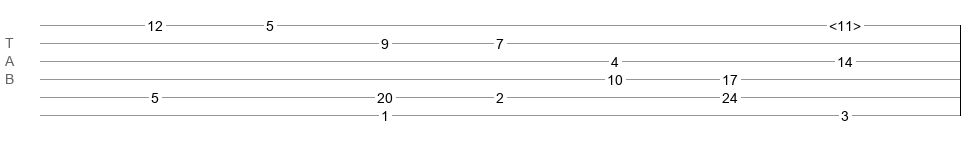1: (381, 108, 389, 118)
10: (607, 72, 623, 82)
12: (147, 18, 163, 28)
14: (837, 54, 853, 64)
17: (722, 72, 738, 82)
2: (496, 90, 504, 100)
20: (377, 90, 393, 100)
24: (722, 90, 738, 100)
3: (841, 108, 849, 118)
4: (611, 54, 619, 64)
5: (151, 90, 159, 100), (266, 18, 274, 28)
7: (496, 36, 504, 46)
9: (381, 36, 389, 46)
harmonic: (829, 18, 861, 28)
